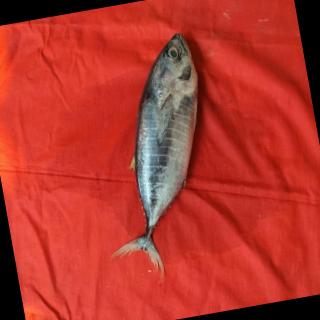Ikan: (66, 19, 246, 289)
